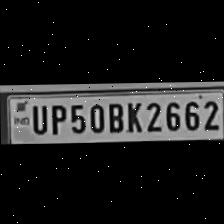0: (86, 100, 104, 134)
2: (141, 97, 161, 132), (200, 95, 218, 130)
5: (66, 100, 86, 134)
6: (160, 97, 180, 131), (180, 96, 200, 130)
B: (104, 99, 124, 133)
K: (122, 98, 142, 134)
P: (46, 100, 66, 134)
U: (27, 101, 47, 134)
